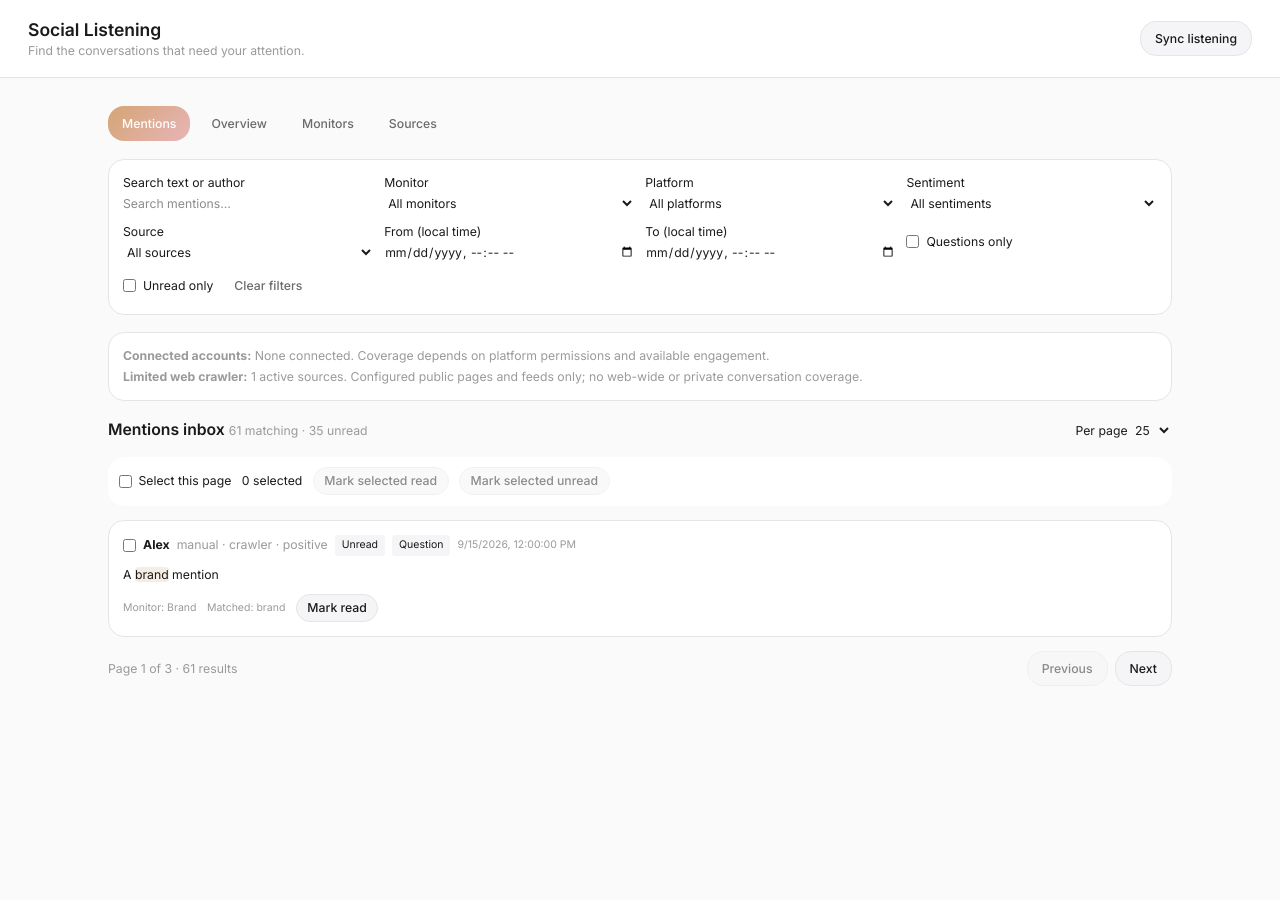
Test: listening workspace › sends page-scoped selection and reports partial updates
Expected: the text "Alex" is shown, [143,536,170,554]
Click the checkbox labelled "Select this page" at (125, 481), box [118,474,132,488]
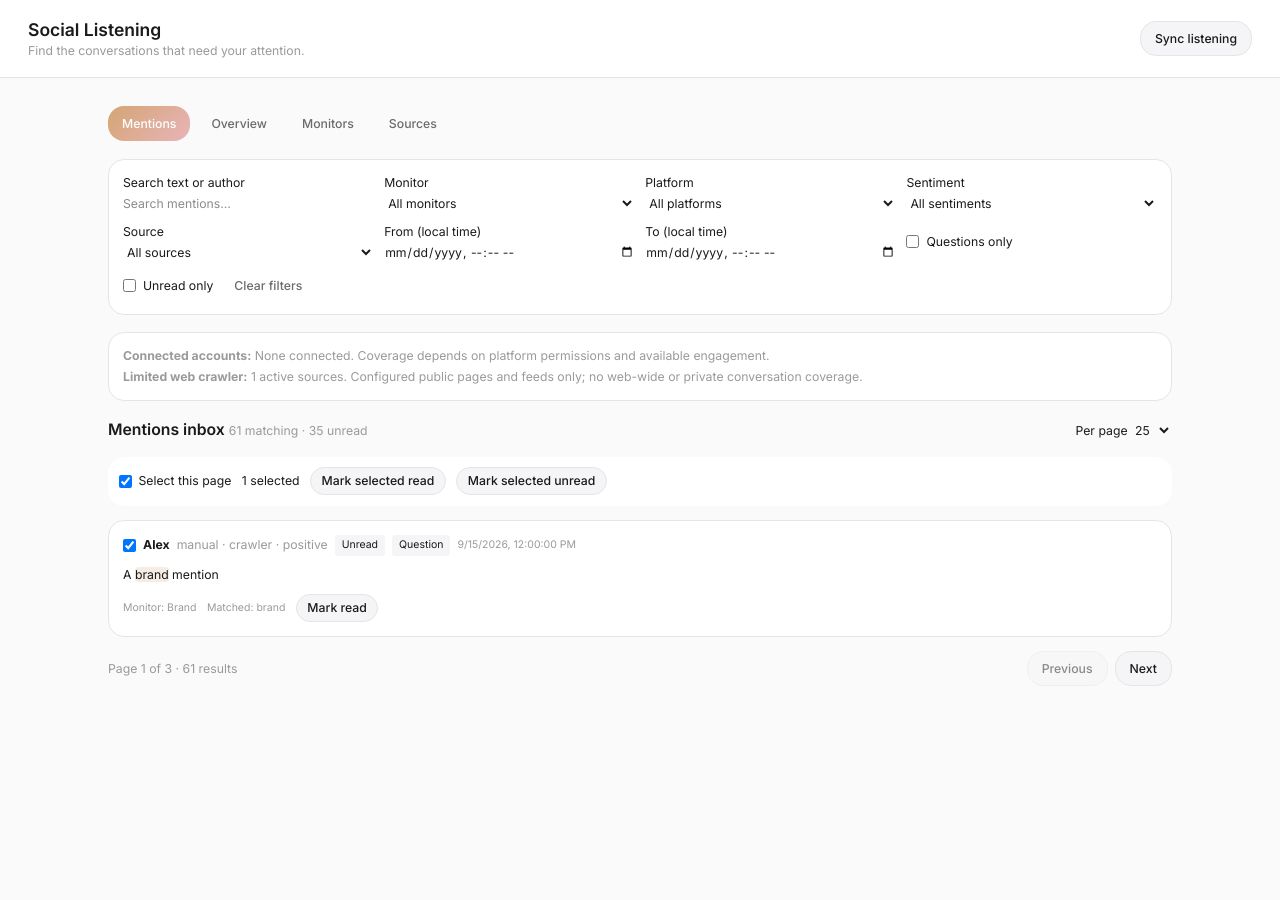
Click the button "Mark selected read" at (378, 481), box [310,467,446,495]
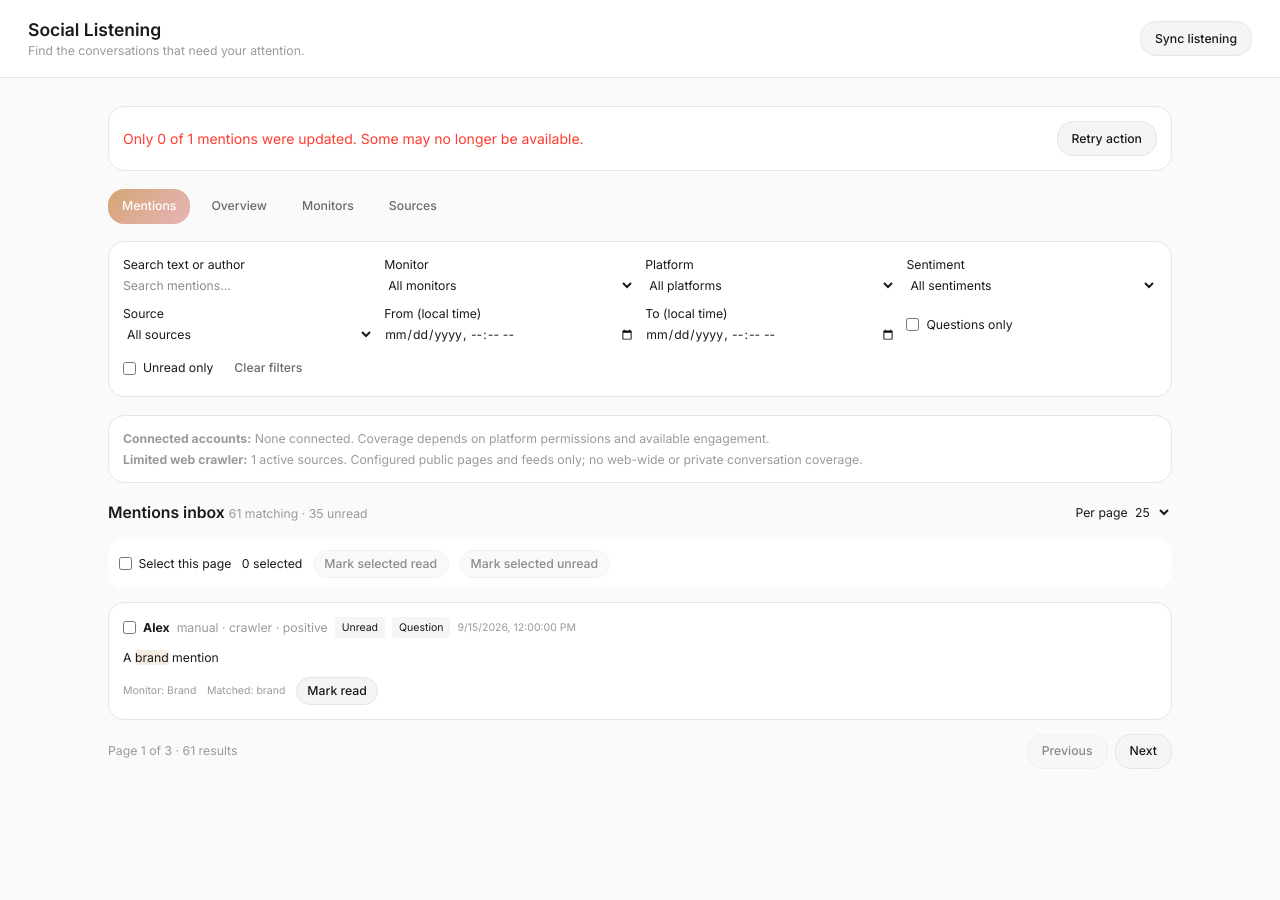
Expected: the text "Only 0 of 1 mentions were updated" is shown, [123,130,584,147]
Expected: the button "Retry action" is shown, [1057,121,1157,156]
